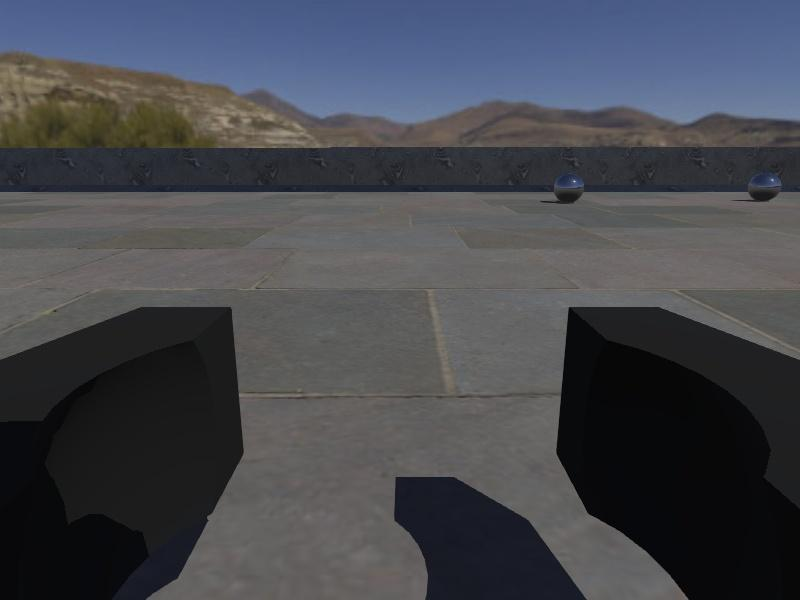steel ball: (748, 171, 782, 203), (553, 173, 583, 205)
